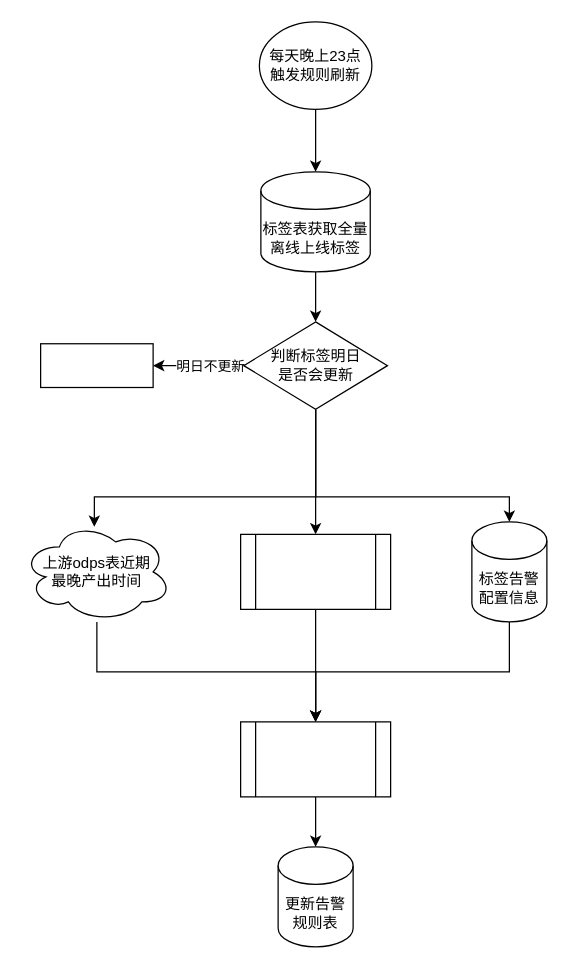
Image size: 569x969. Some labels were removed from this diagram. Here are the shapes that lost their labels. From the top down, the centre of each, then its label:
pixel 96 365: 返回
pixel 315 571: 标签近期平均调度加工时间
pixel 315 759: 计算得到明日告警与预警时间
